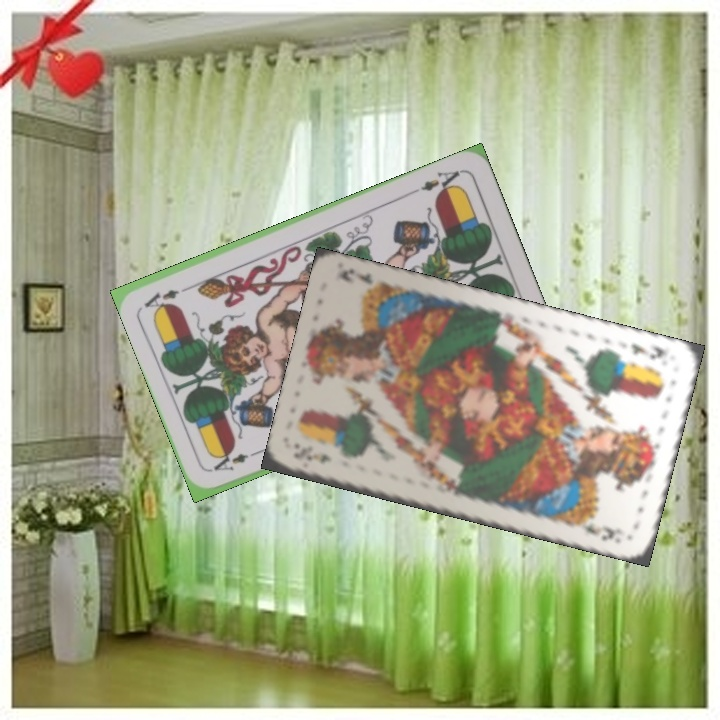EA: (409, 166, 465, 197), (209, 449, 251, 474)
EK: (626, 339, 669, 362), (289, 446, 334, 467)
